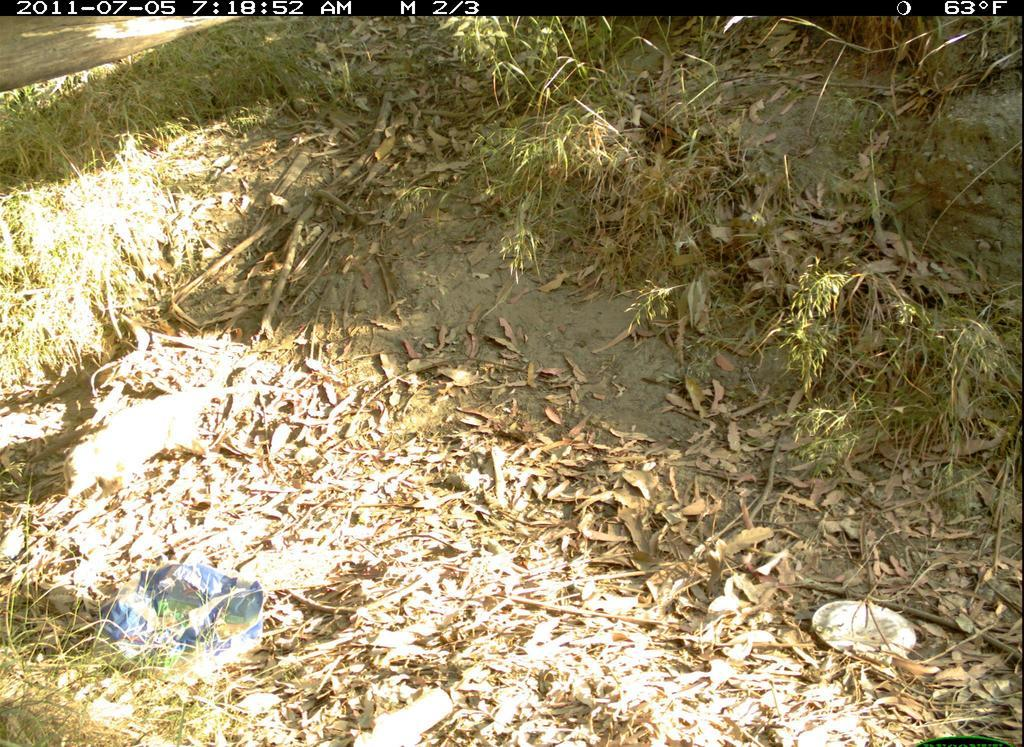opossum: (45, 374, 322, 532)
